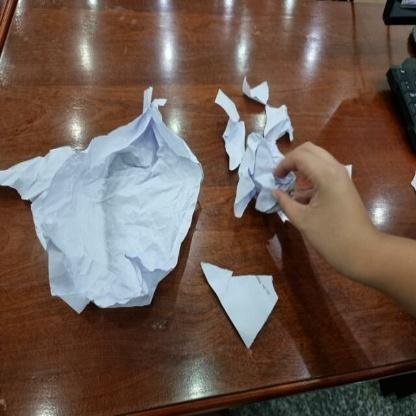trash: (0, 84, 206, 314), (212, 78, 294, 223), (198, 262, 279, 351)
